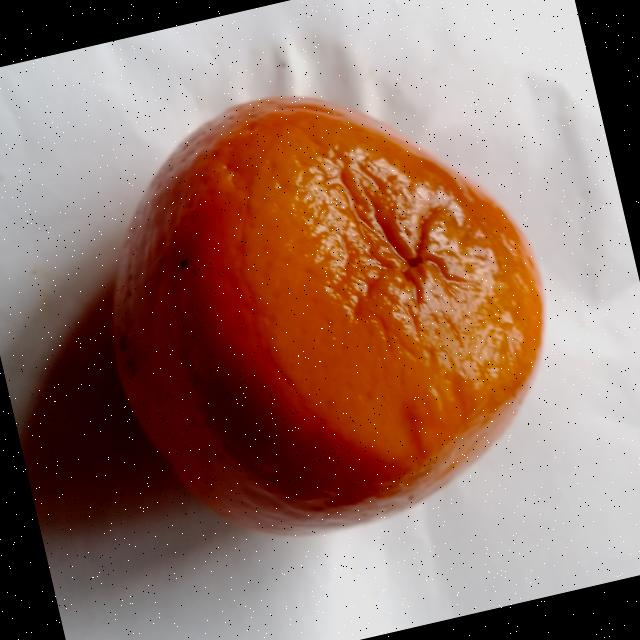Rotten: (62, 45, 589, 578)
